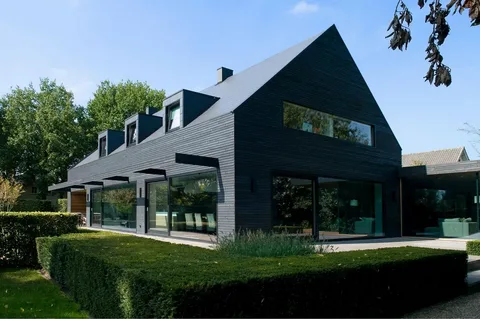private_hause: (74, 72, 405, 239)
